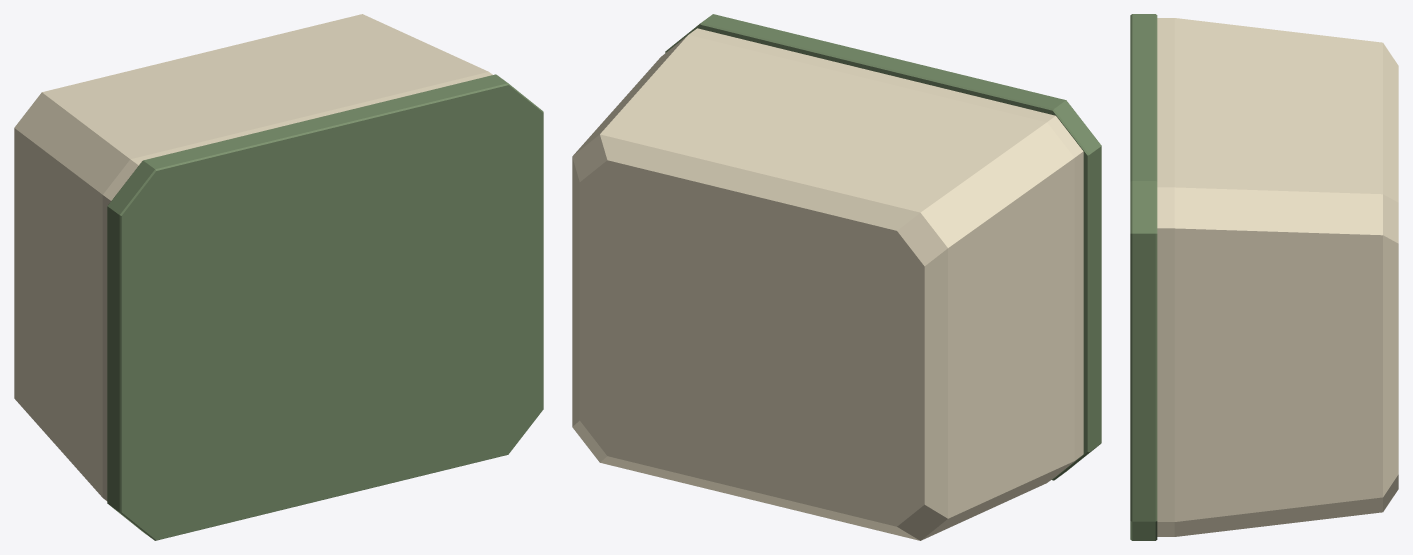
The model's file is feta.glb.
The picture shows the model from 3 angles, left to right: view 1: azimuth 30°, elevation 25°; view 2: azimuth 150°, elevation 25°; view 3: azimuth 270°, elevation 25°; orthographic projection. The views are drawn at different scales.
Visible parts, largest first — view 1: feta; view 2: feta; view 3: feta.
Boxes of the visible parts, left/top/right/bottom form: feta: left=14, top=14, right=543, bottom=540; feta: left=572, top=14, right=1101, bottom=540; feta: left=1130, top=14, right=1398, bottom=540.
Size of the model in its own units: 0.123 by 0.104 by 0.0695.
